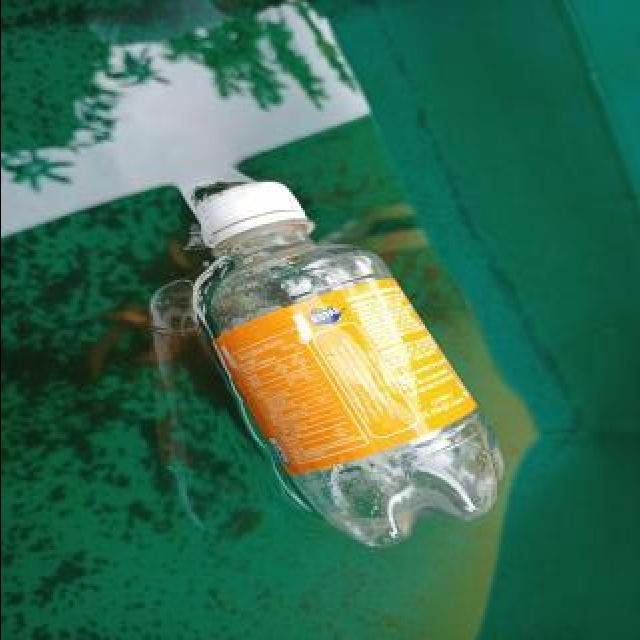Bottle: (182, 172, 510, 556)
